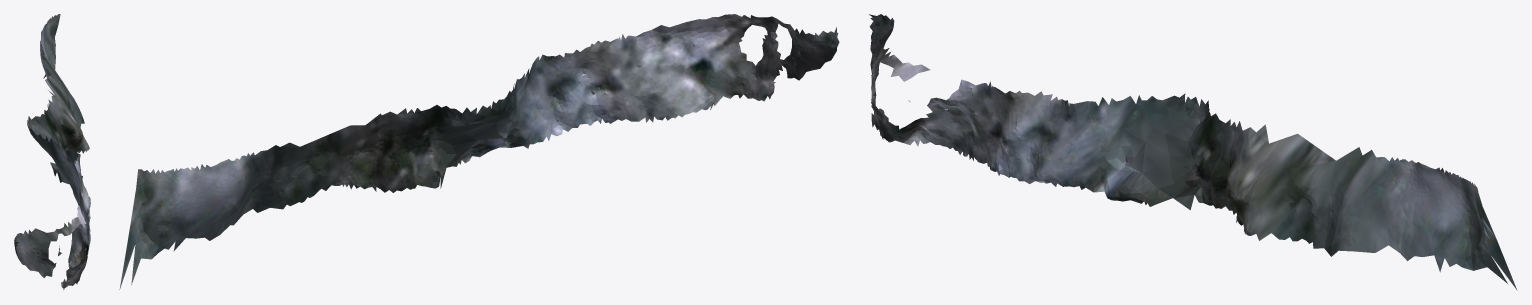
Rendered from tile_0643.gltf.
3 renders of one model, left to right at view 1: azimuth 30°, elevation 25°; view 2: azimuth 150°, elevation 25°; view 3: azimuth 270°, elevation 25°, orthographic. The views are drawn at different scales.
Visible parts, largest first — view 1: defaultobject; view 2: defaultobject; view 3: defaultobject.
Boxes of the visible parts, left/top/right/bottom form: defaultobject: left=14, top=14, right=90, bottom=290; defaultobject: left=119, top=14, right=839, bottom=289; defaultobject: left=869, top=14, right=1517, bottom=290.
Size of the model in its own units: 0.6067 by 0.1704 by 0.9386.
Materials: 2 (2 with a texture image).
